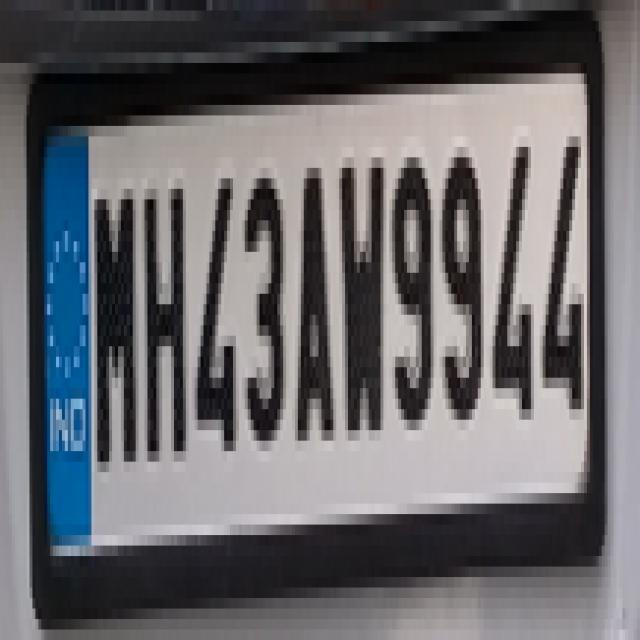3: (241, 172, 290, 448)
4: (488, 137, 540, 446), (194, 176, 242, 481), (544, 142, 592, 440)
9: (385, 151, 437, 428), (436, 150, 486, 432)
A: (294, 158, 339, 458)
H: (140, 176, 189, 468)
M: (90, 180, 138, 482)
W: (332, 140, 393, 456)
